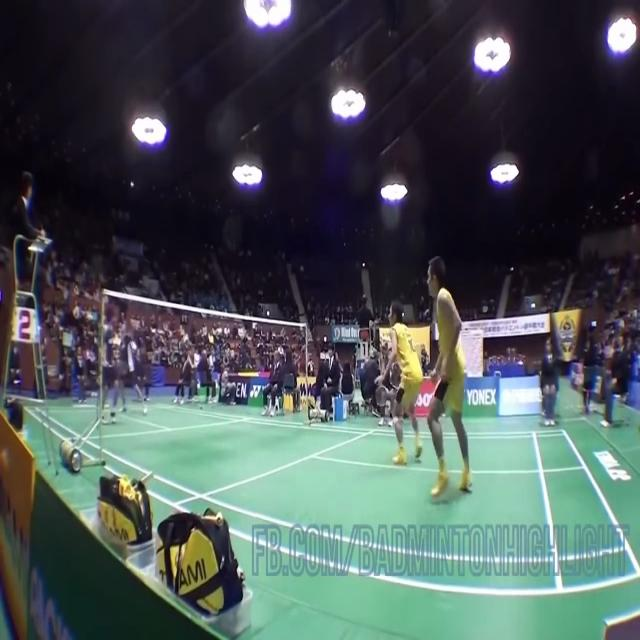shuttlecock: (130, 181, 134, 187)
